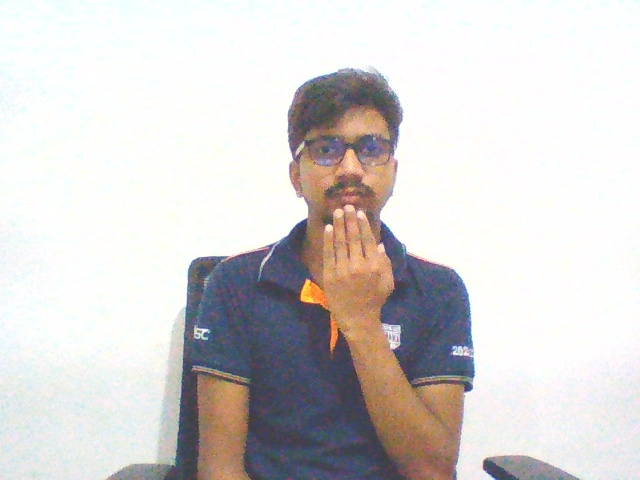mango: (317, 198, 398, 340)
